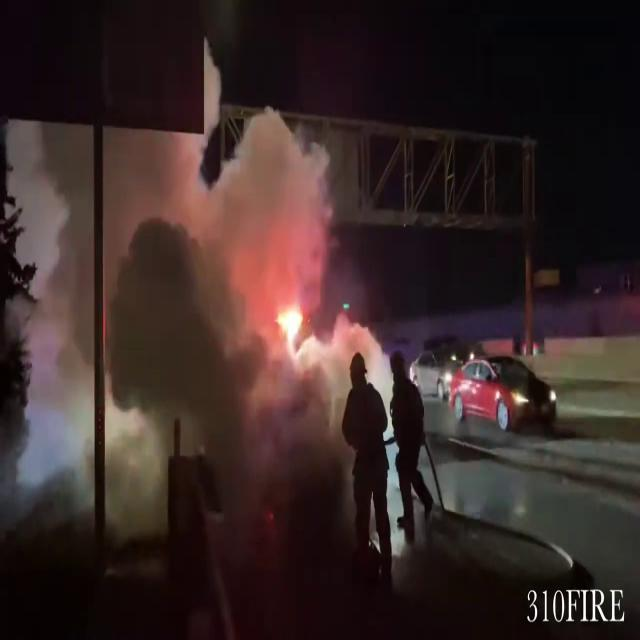Fire: (268, 282, 312, 364)
Smoke: (26, 113, 386, 528)
